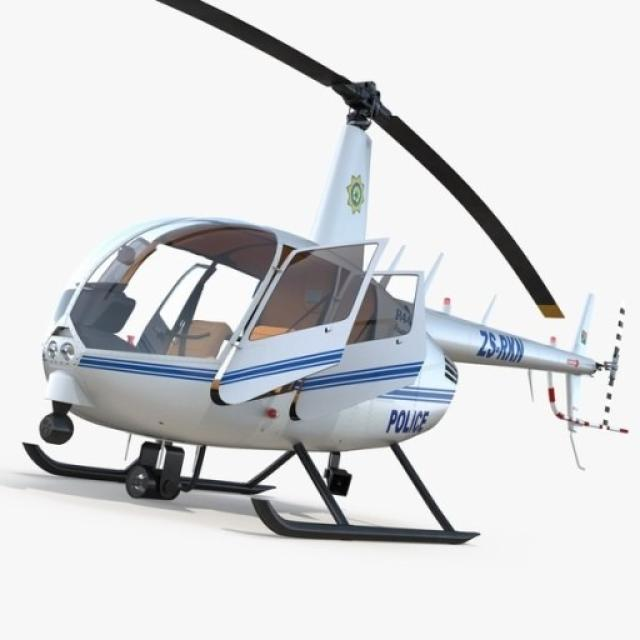CIV_HELO: (20, 74, 640, 548)
